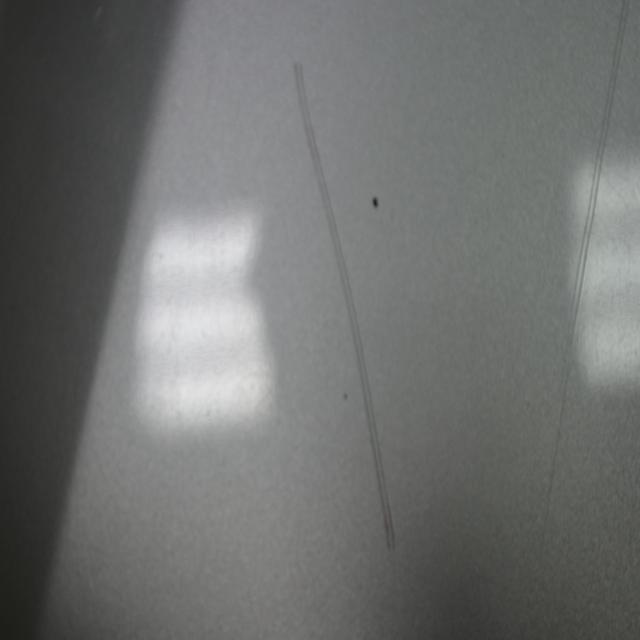dirt: (372, 195, 381, 211), (342, 391, 351, 404)
scratch: (289, 58, 399, 561), (542, 10, 631, 547)
